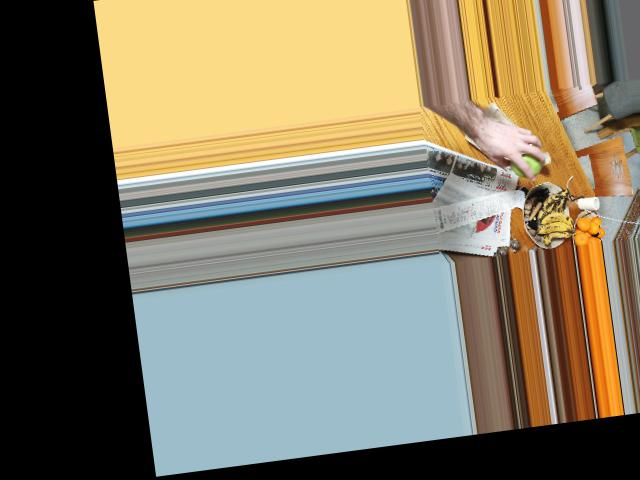apple: (506, 142, 545, 179)
